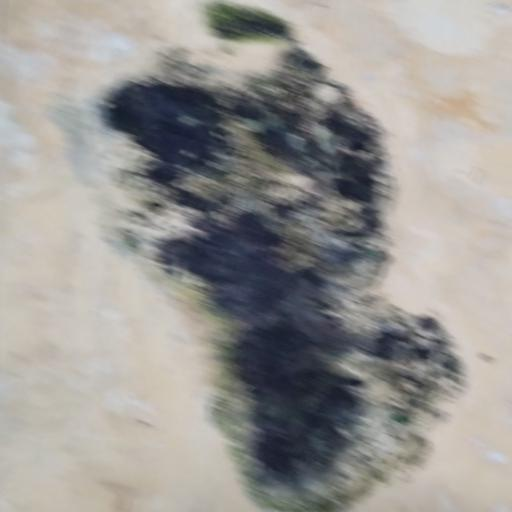algae: (80, 16, 471, 509)
